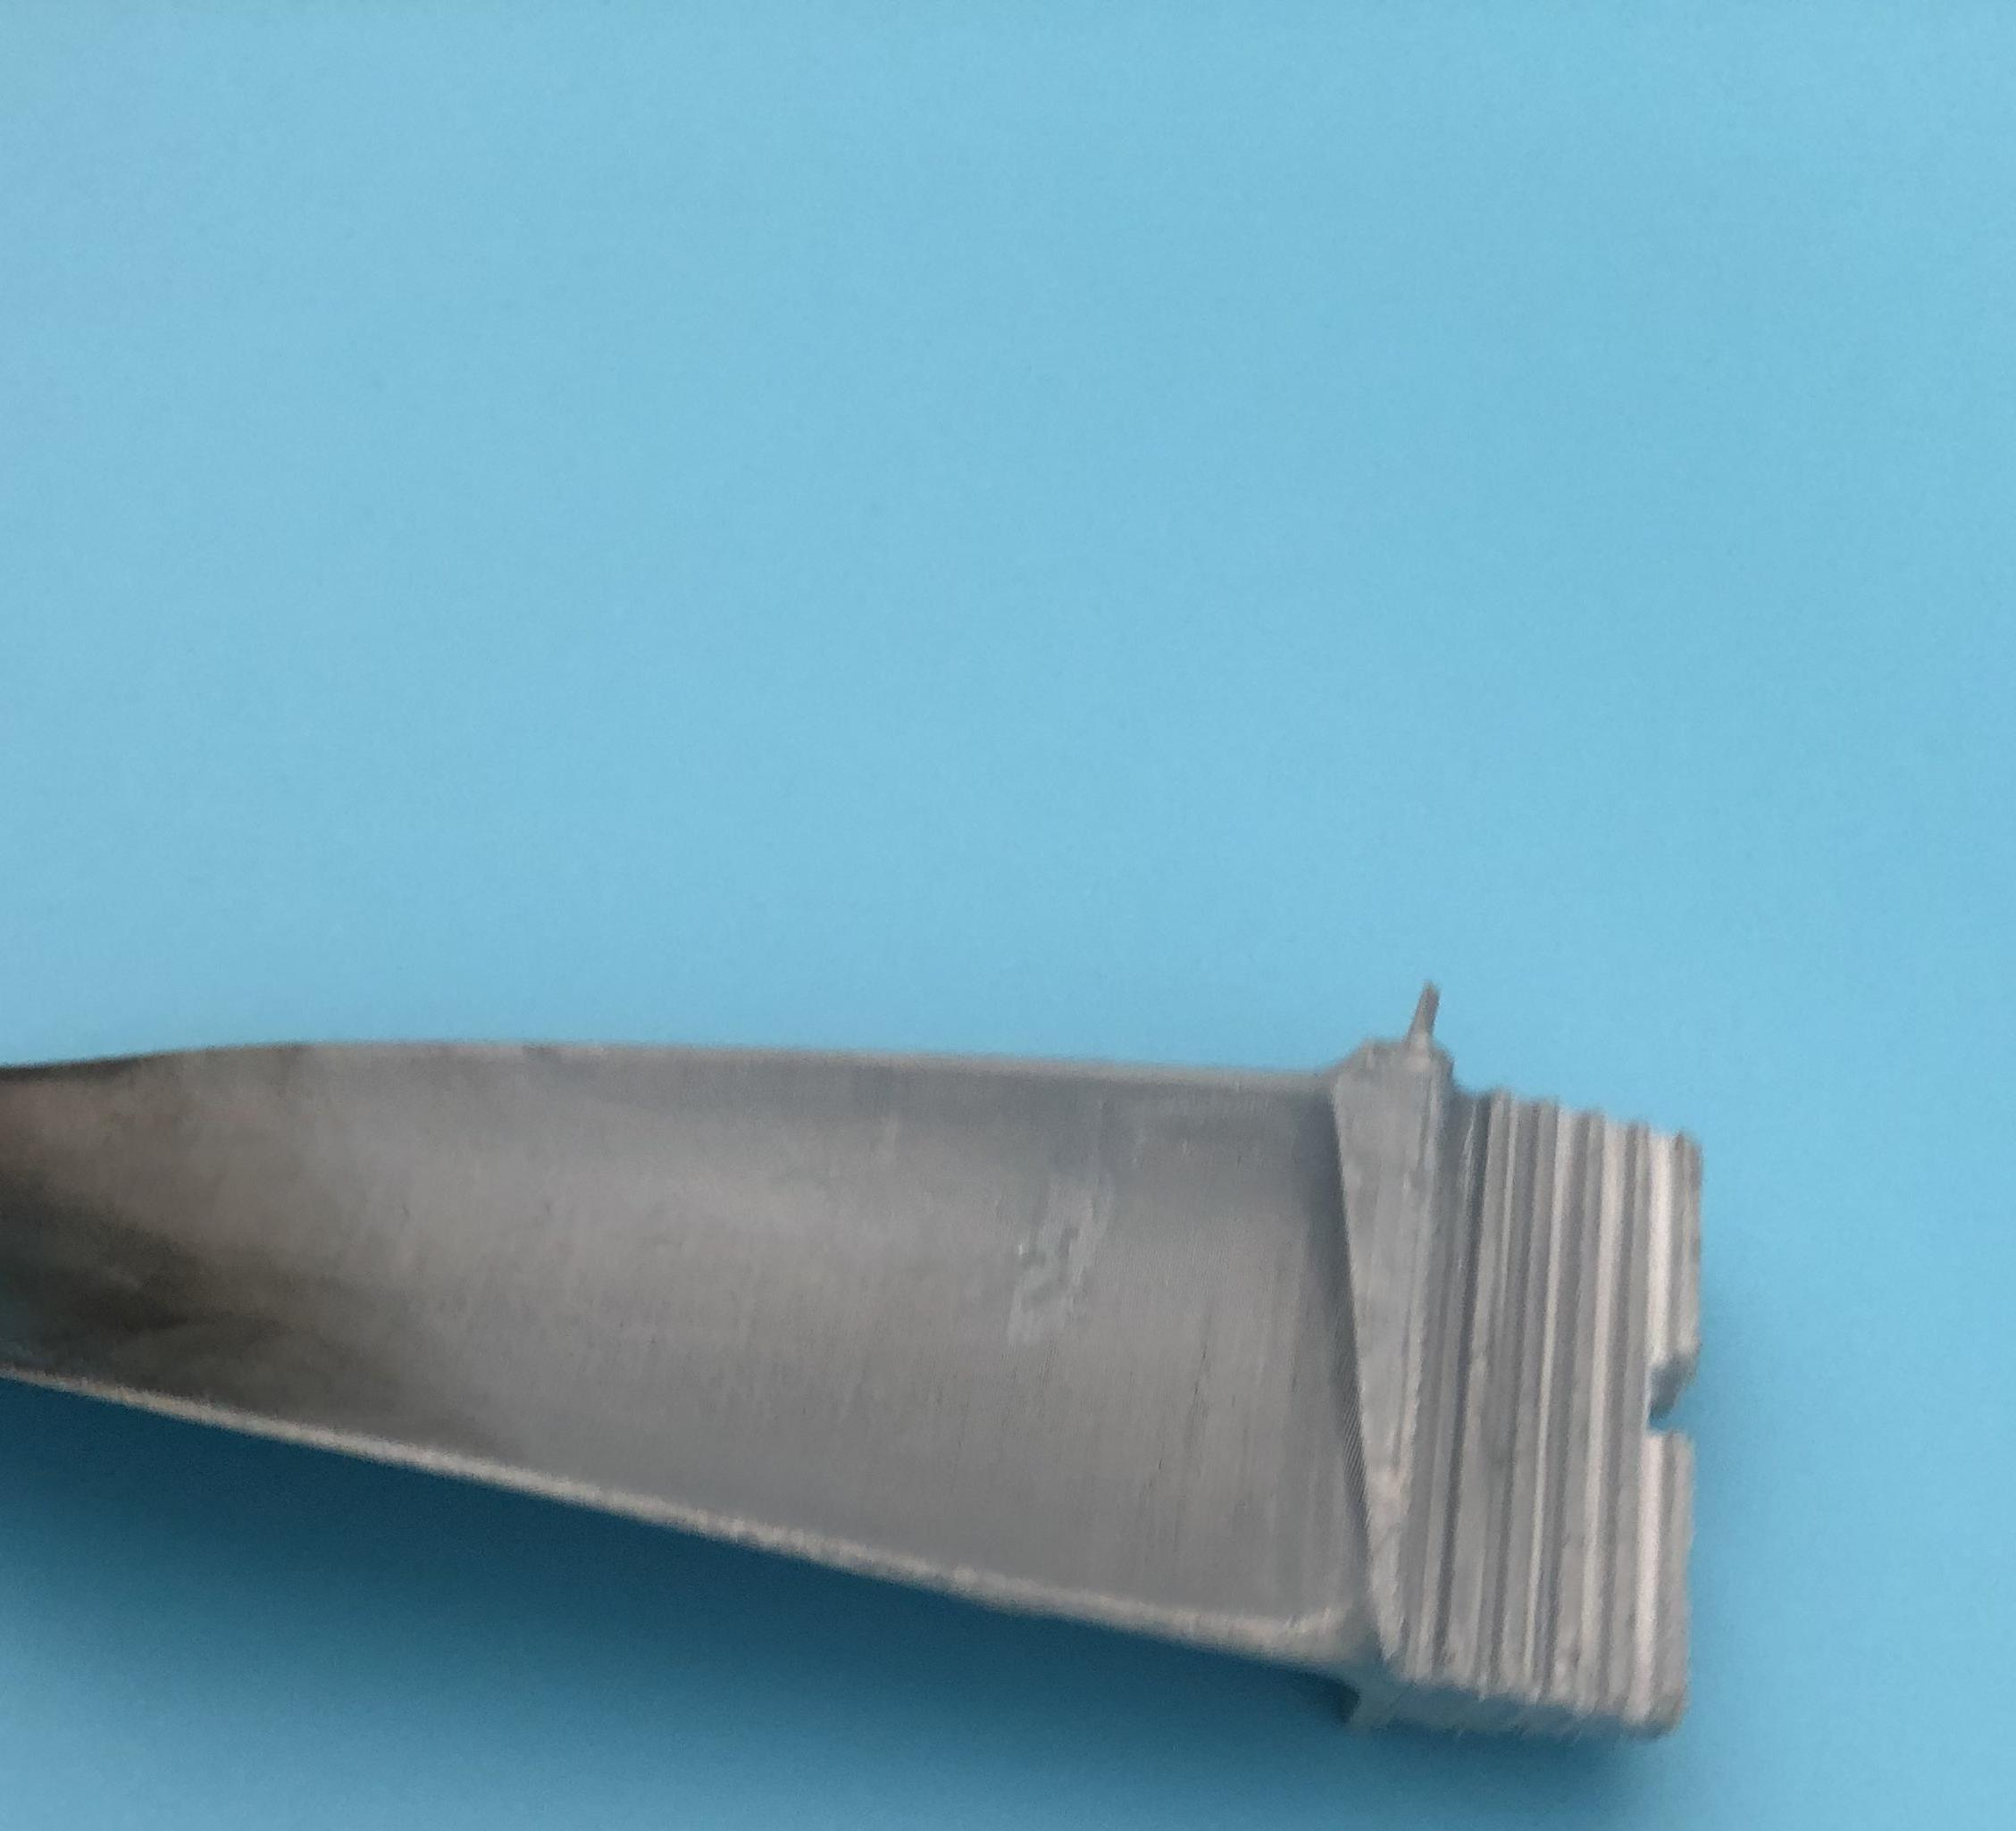ablation: (4, 1078, 355, 1397)
